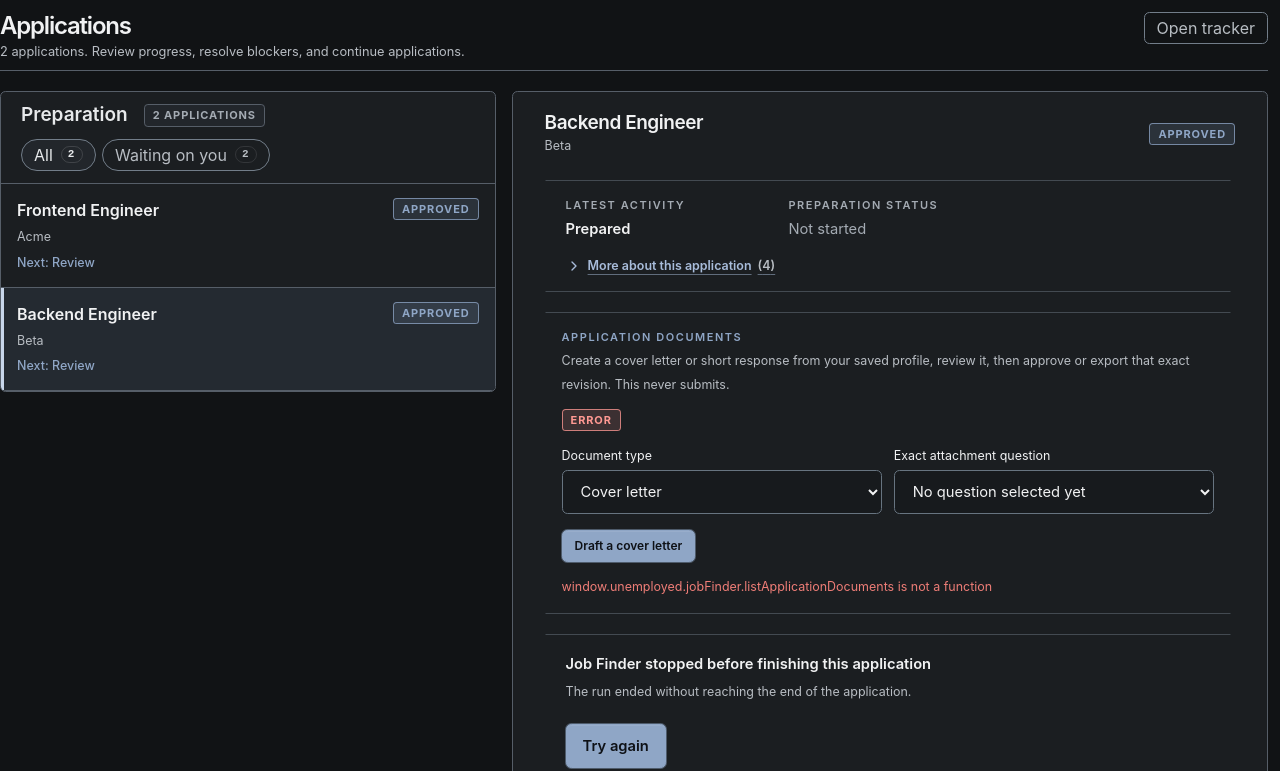
ApplicationsScreen › hides CRM tracking controls while search hides the selected application and restores them when the search clears
Click the button "Open tracker" at (1206, 28), box [1144,12,1268,44]
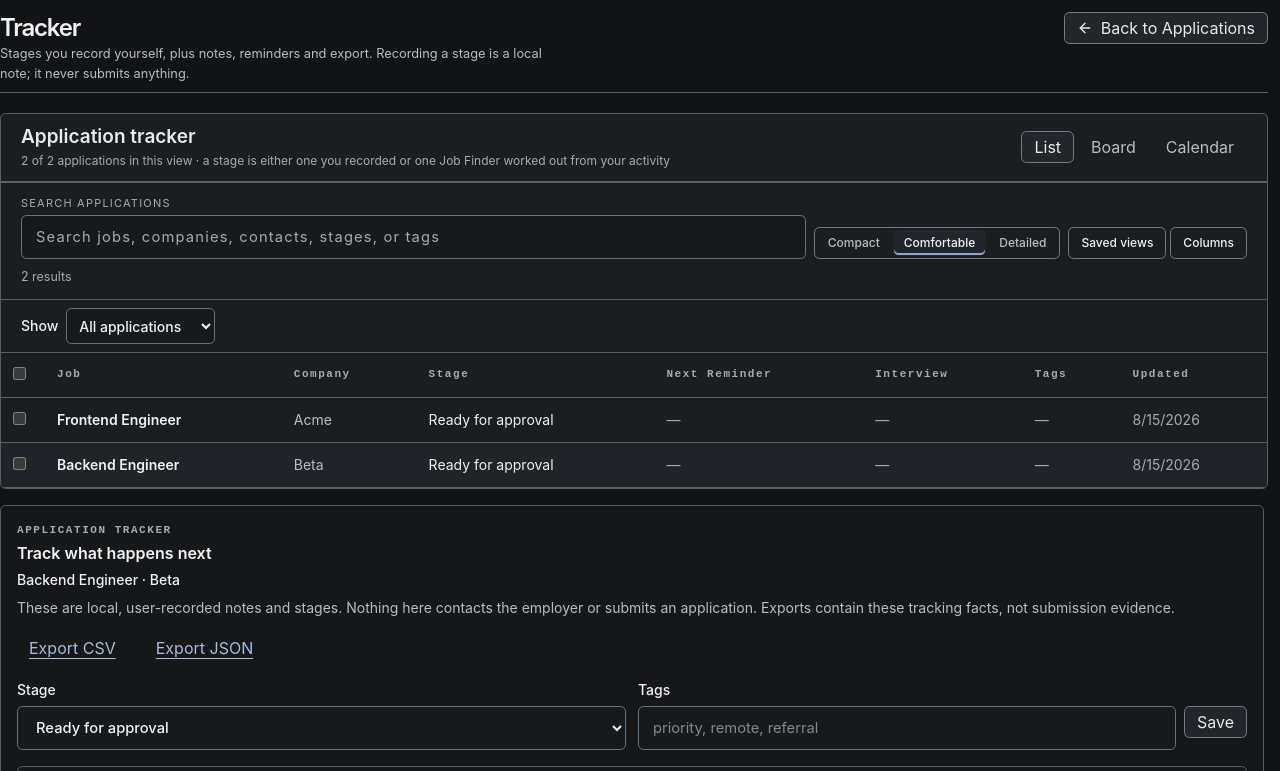
Check: the dropdown labelled "Stage" is shown, box [17,706,626,750]
Check: the text "Backend Engineer · Beta" is shown, box [17,571,180,588]
Type "nothing-matches-this-search" into the search field labelled "Search applications" at (413, 237), box [21,215,806,259]
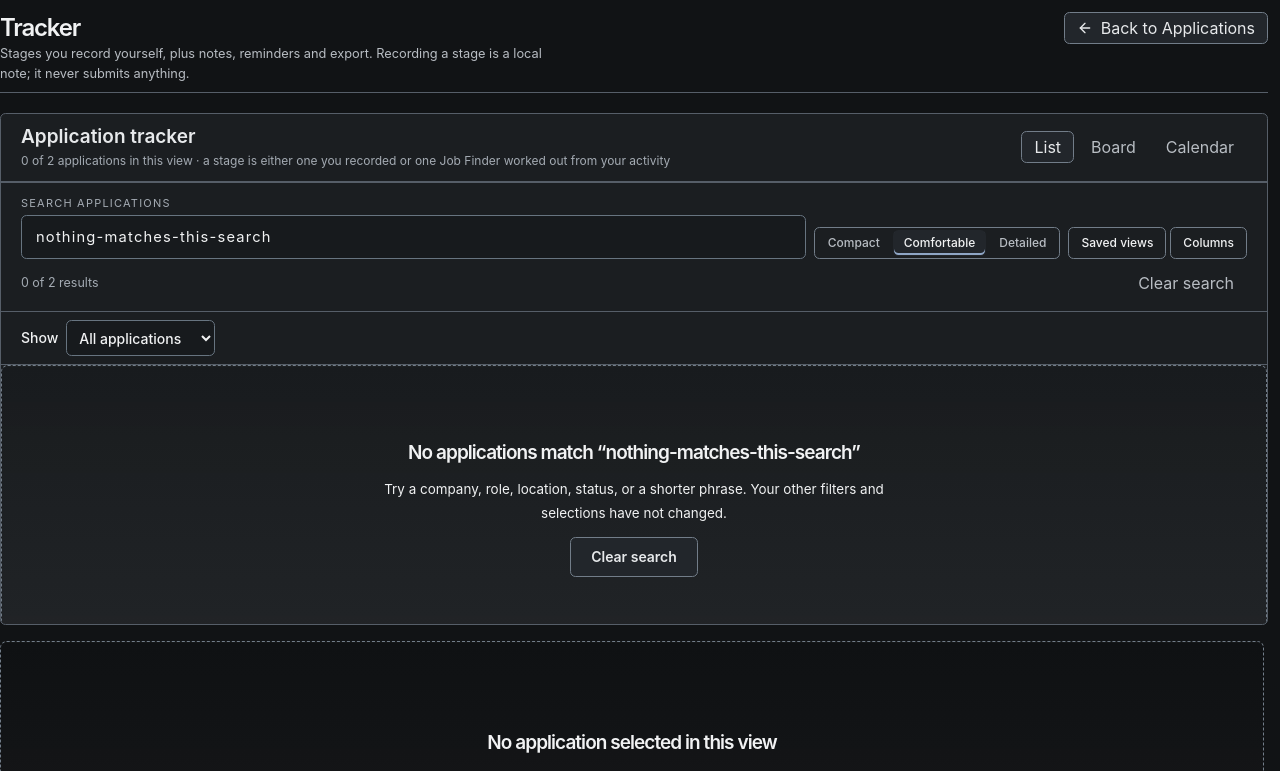
Check: the heading "No application selected in this view" is shown, box [487,731,777,754]
Check: the button "Export CSV" is gone
Check: the button "Export JSON" is gone
Clear the search field labelled "Search applications" at (413, 237), box [21,215,806,259]
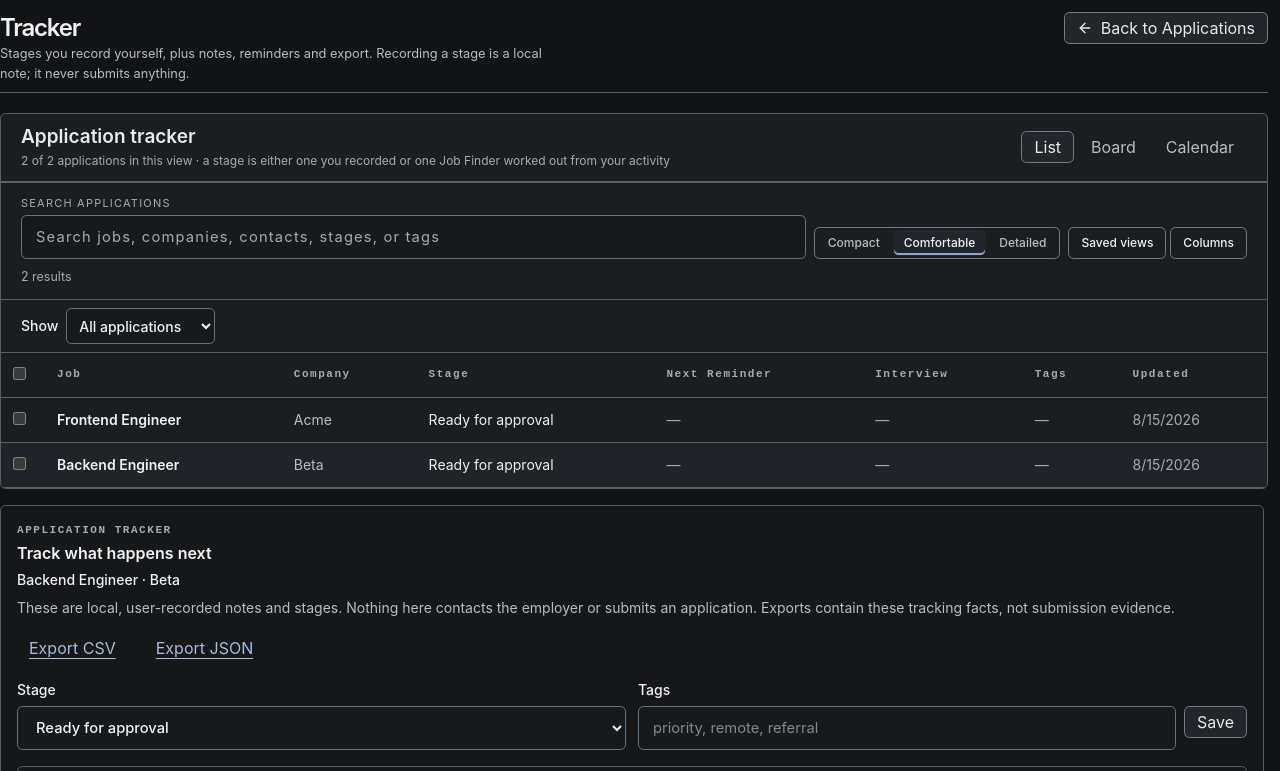
Check: the dropdown labelled "Stage" is shown, box [17,706,626,750]
Check: the text "Backend Engineer · Beta" is shown, box [17,571,180,588]
Check: the button "Export CSV" is shown, box [17,632,128,664]
